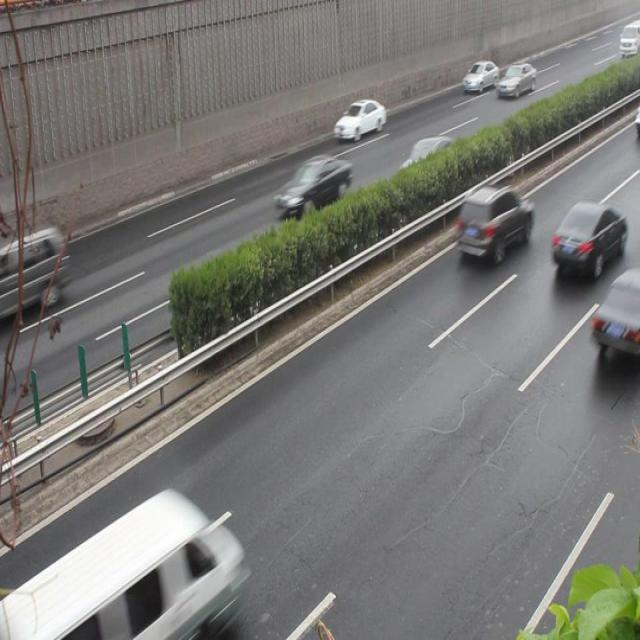car: (454, 182, 532, 266), (550, 199, 624, 277), (276, 154, 353, 218), (592, 272, 640, 362), (394, 136, 461, 190), (332, 96, 384, 142), (495, 63, 535, 97)
truck: (24, 490, 248, 640)
